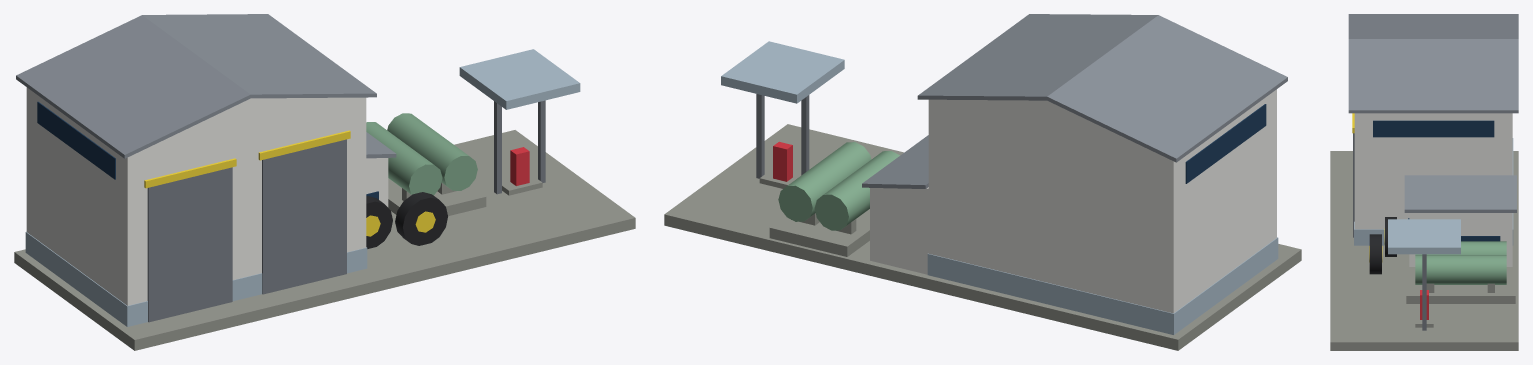
Rendered from site_workshop.fbx.
3 renders of one model, left to right at view 1: azimuth 30°, elevation 25°; view 2: azimuth 150°, elevation 25°; view 3: azimuth 270°, elevation 25°, orthographic. The views are drawn at different scales.
Visible parts, largest first — view 1: a1022/0/site_workshop; view 2: a1022/0/site_workshop; view 3: a1022/0/site_workshop.
Boxes of the visible parts, x1=… form: a1022/0/site_workshop: x1=14, y1=14, x2=635, y2=350; a1022/0/site_workshop: x1=664, y1=14, x2=1301, y2=350; a1022/0/site_workshop: x1=1330, y1=14, x2=1518, y2=350.
Size of the model in its own units: 29.8 by 12.32 by 12.4.
